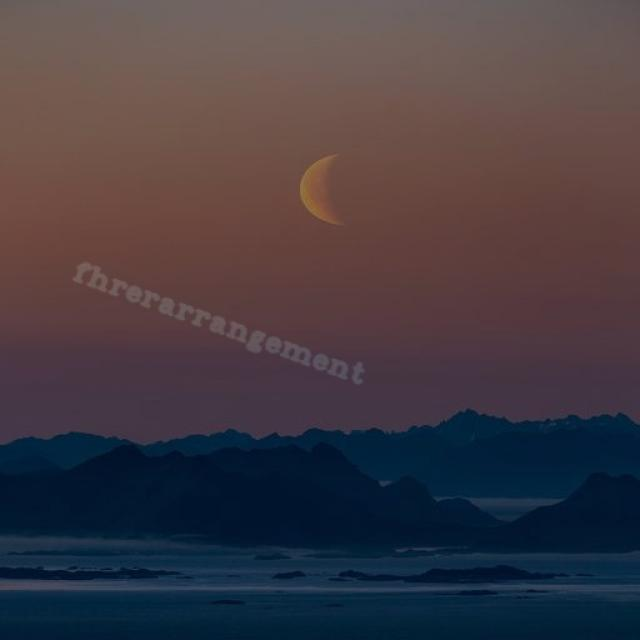watermark: (65, 257, 382, 388)
